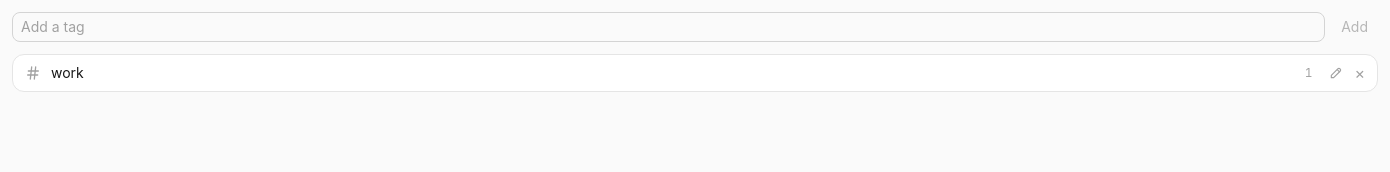
Test case: TagList › turns a tag's name into a box with the caret in it from its rename button (TAG-24)
Click the button named "Rename the tag \"work\"".
click(1336, 73)  # box [1324, 61, 1348, 85]
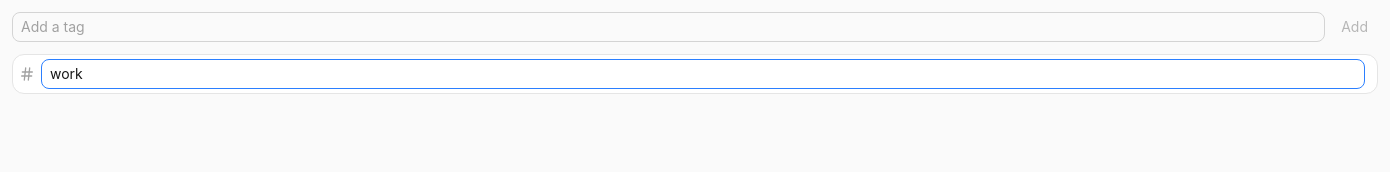
Expected: the field named "Name of the tag \"work\"" holds "work", [41, 59, 1365, 89]
